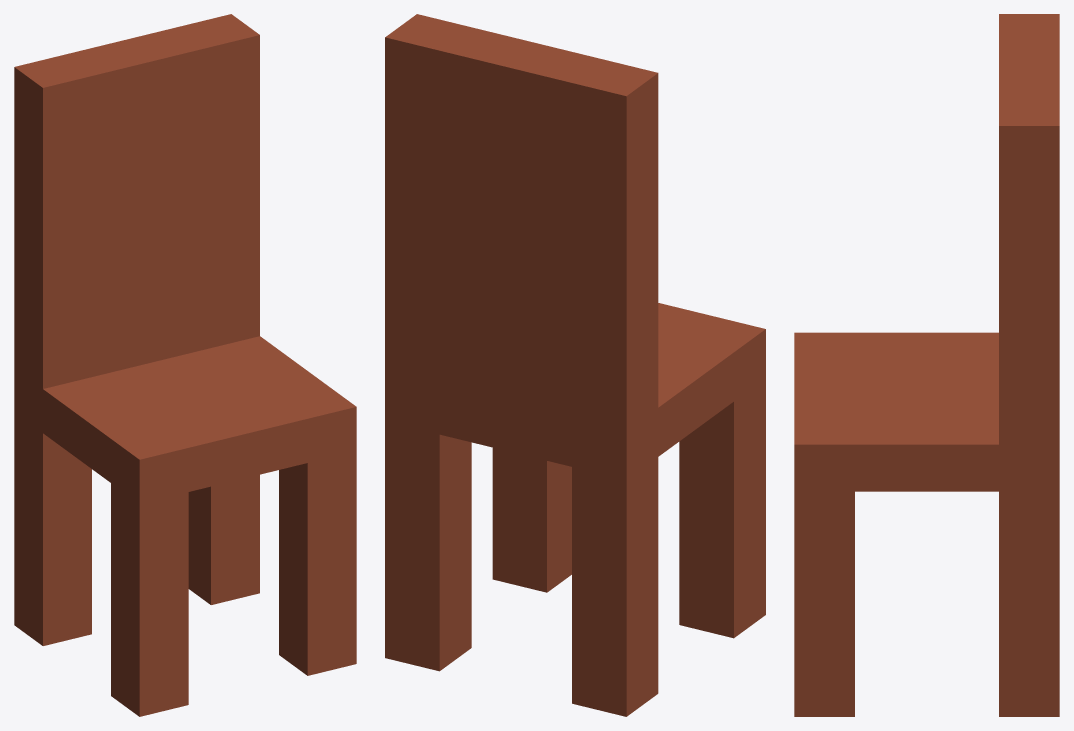
Rendered from chair.fbx.
3 renders of one model, left to right at view 1: azimuth 30°, elevation 25°; view 2: azimuth 150°, elevation 25°; view 3: azimuth 270°, elevation 25°, orthographic. The views are drawn at different scales.
Visible parts, largest first — view 1: pCube1; view 2: pCube1; view 3: pCube1.
Part boxes in pixels (x1,y1,x2,y2): pCube1: [14, 14, 356, 716]; pCube1: [385, 14, 765, 716]; pCube1: [794, 14, 1059, 716].
Bounding box in the file's own units: 6.25 × 15.36 × 6.25.
1 material, 1 textured.
